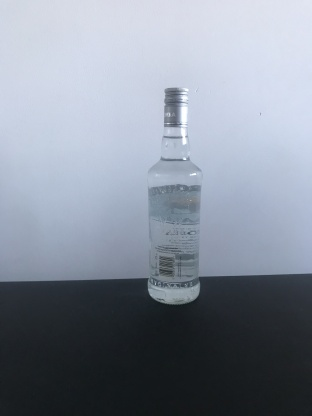nakretka: (162, 86, 190, 129)
